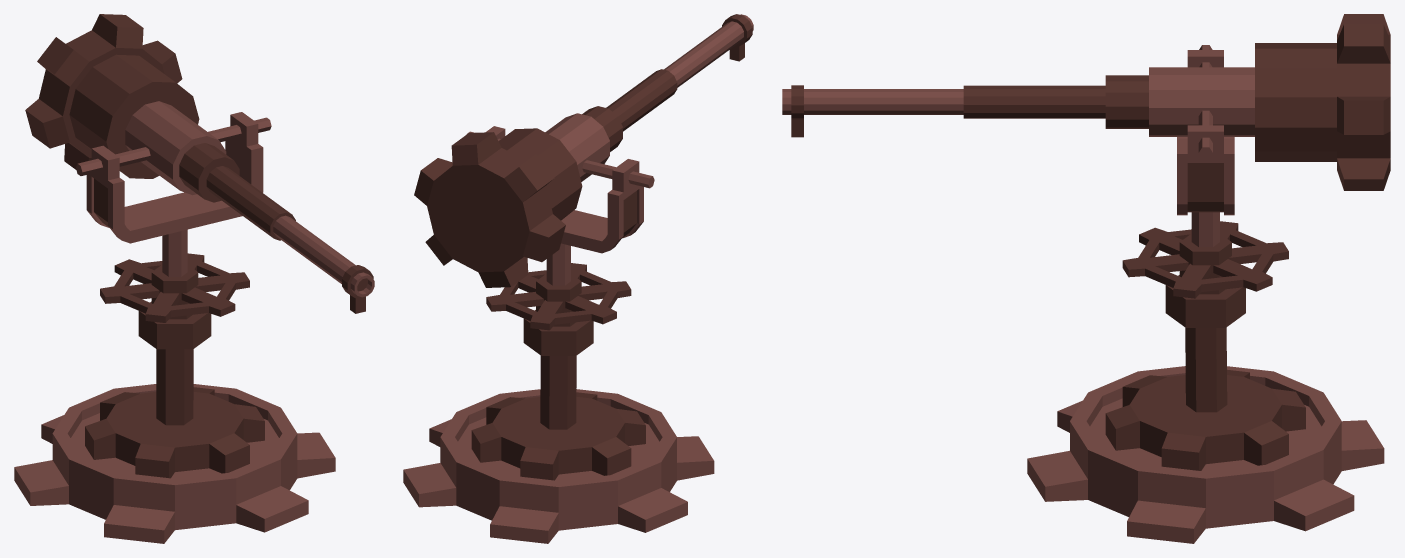
File: gun-2-2863455a0c.glb
The picture shows the model from 3 angles, left to right: view 1: azimuth 30°, elevation 25°; view 2: azimuth 150°, elevation 25°; view 3: azimuth 270°, elevation 25°; orthographic projection. The views are drawn at different scales.
Parts seen in each view (by area): view 1: Gun_2.obj; view 2: Gun_2.obj; view 3: Gun_2.obj.
Boxes of the visible parts, left/top/right/bottom form: Gun_2.obj: left=14, top=14, right=374, bottom=543; Gun_2.obj: left=403, top=14, right=753, bottom=543; Gun_2.obj: left=782, top=14, right=1390, bottom=543.
Size of the model in its own units: 1.38 by 1.91 by 2.35.
